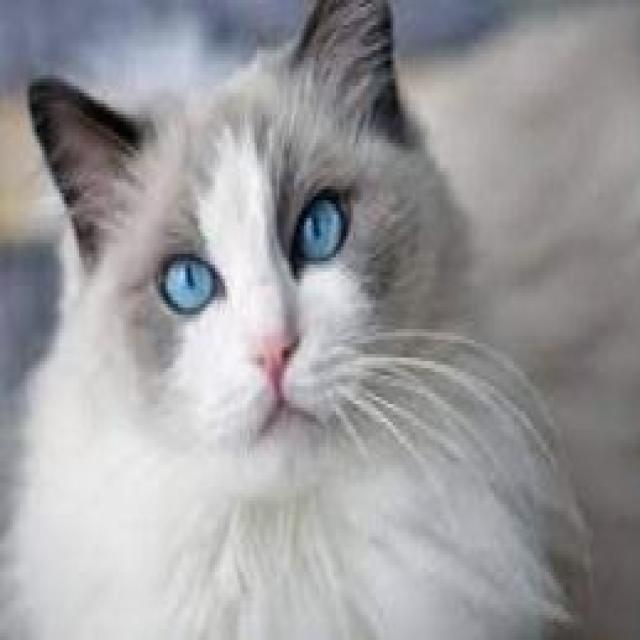Gato: (2, 3, 607, 640)
